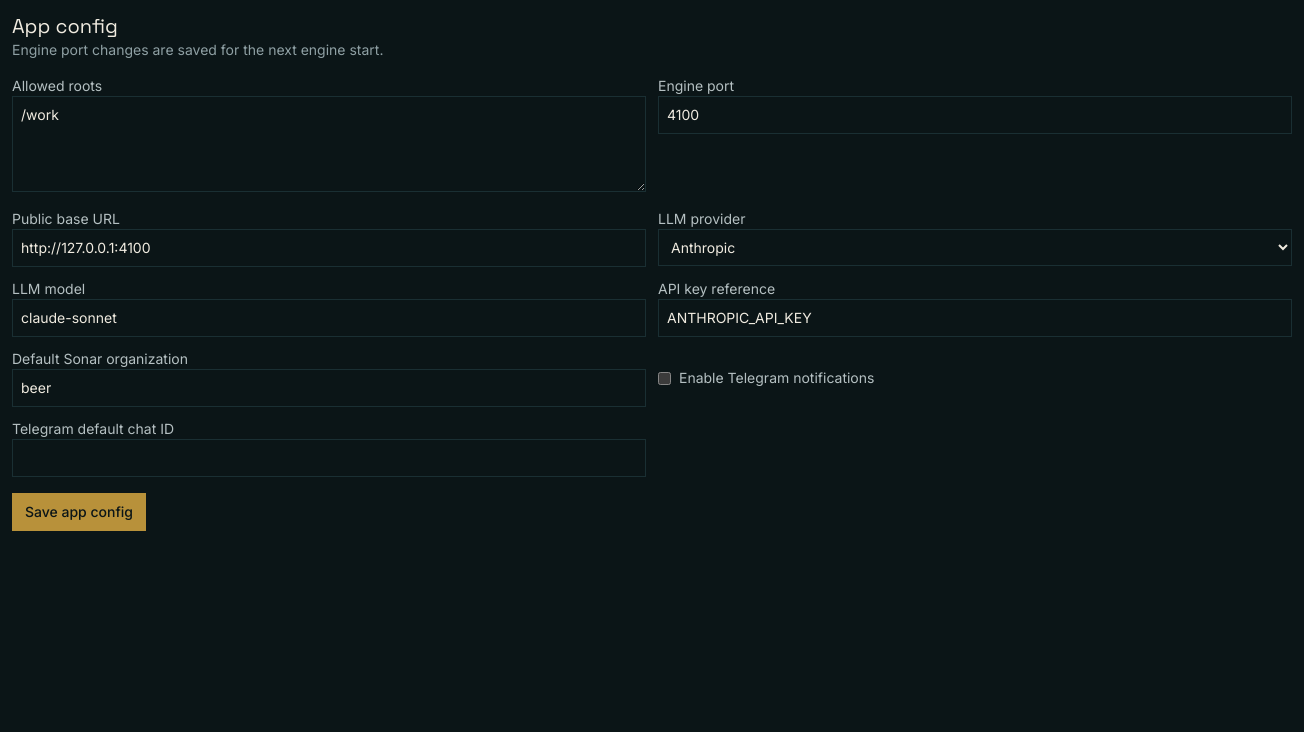
Test: Partial save feedback › AC-9 names that only part of the settings was saved
Click the button "Save app config" at (79, 512), box [12, 493, 146, 531]
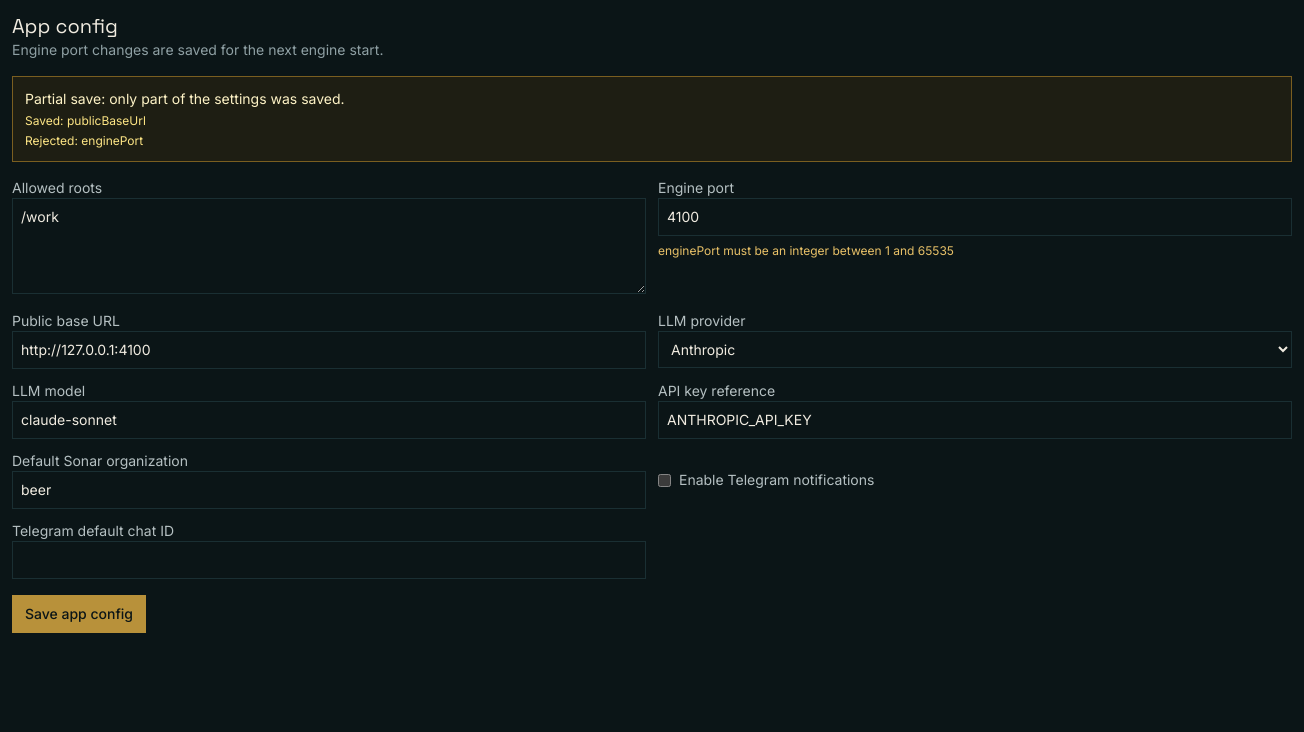
expect the text "Partial save: only part of the settings was saved." is shown: met, box [25, 90, 344, 107]
